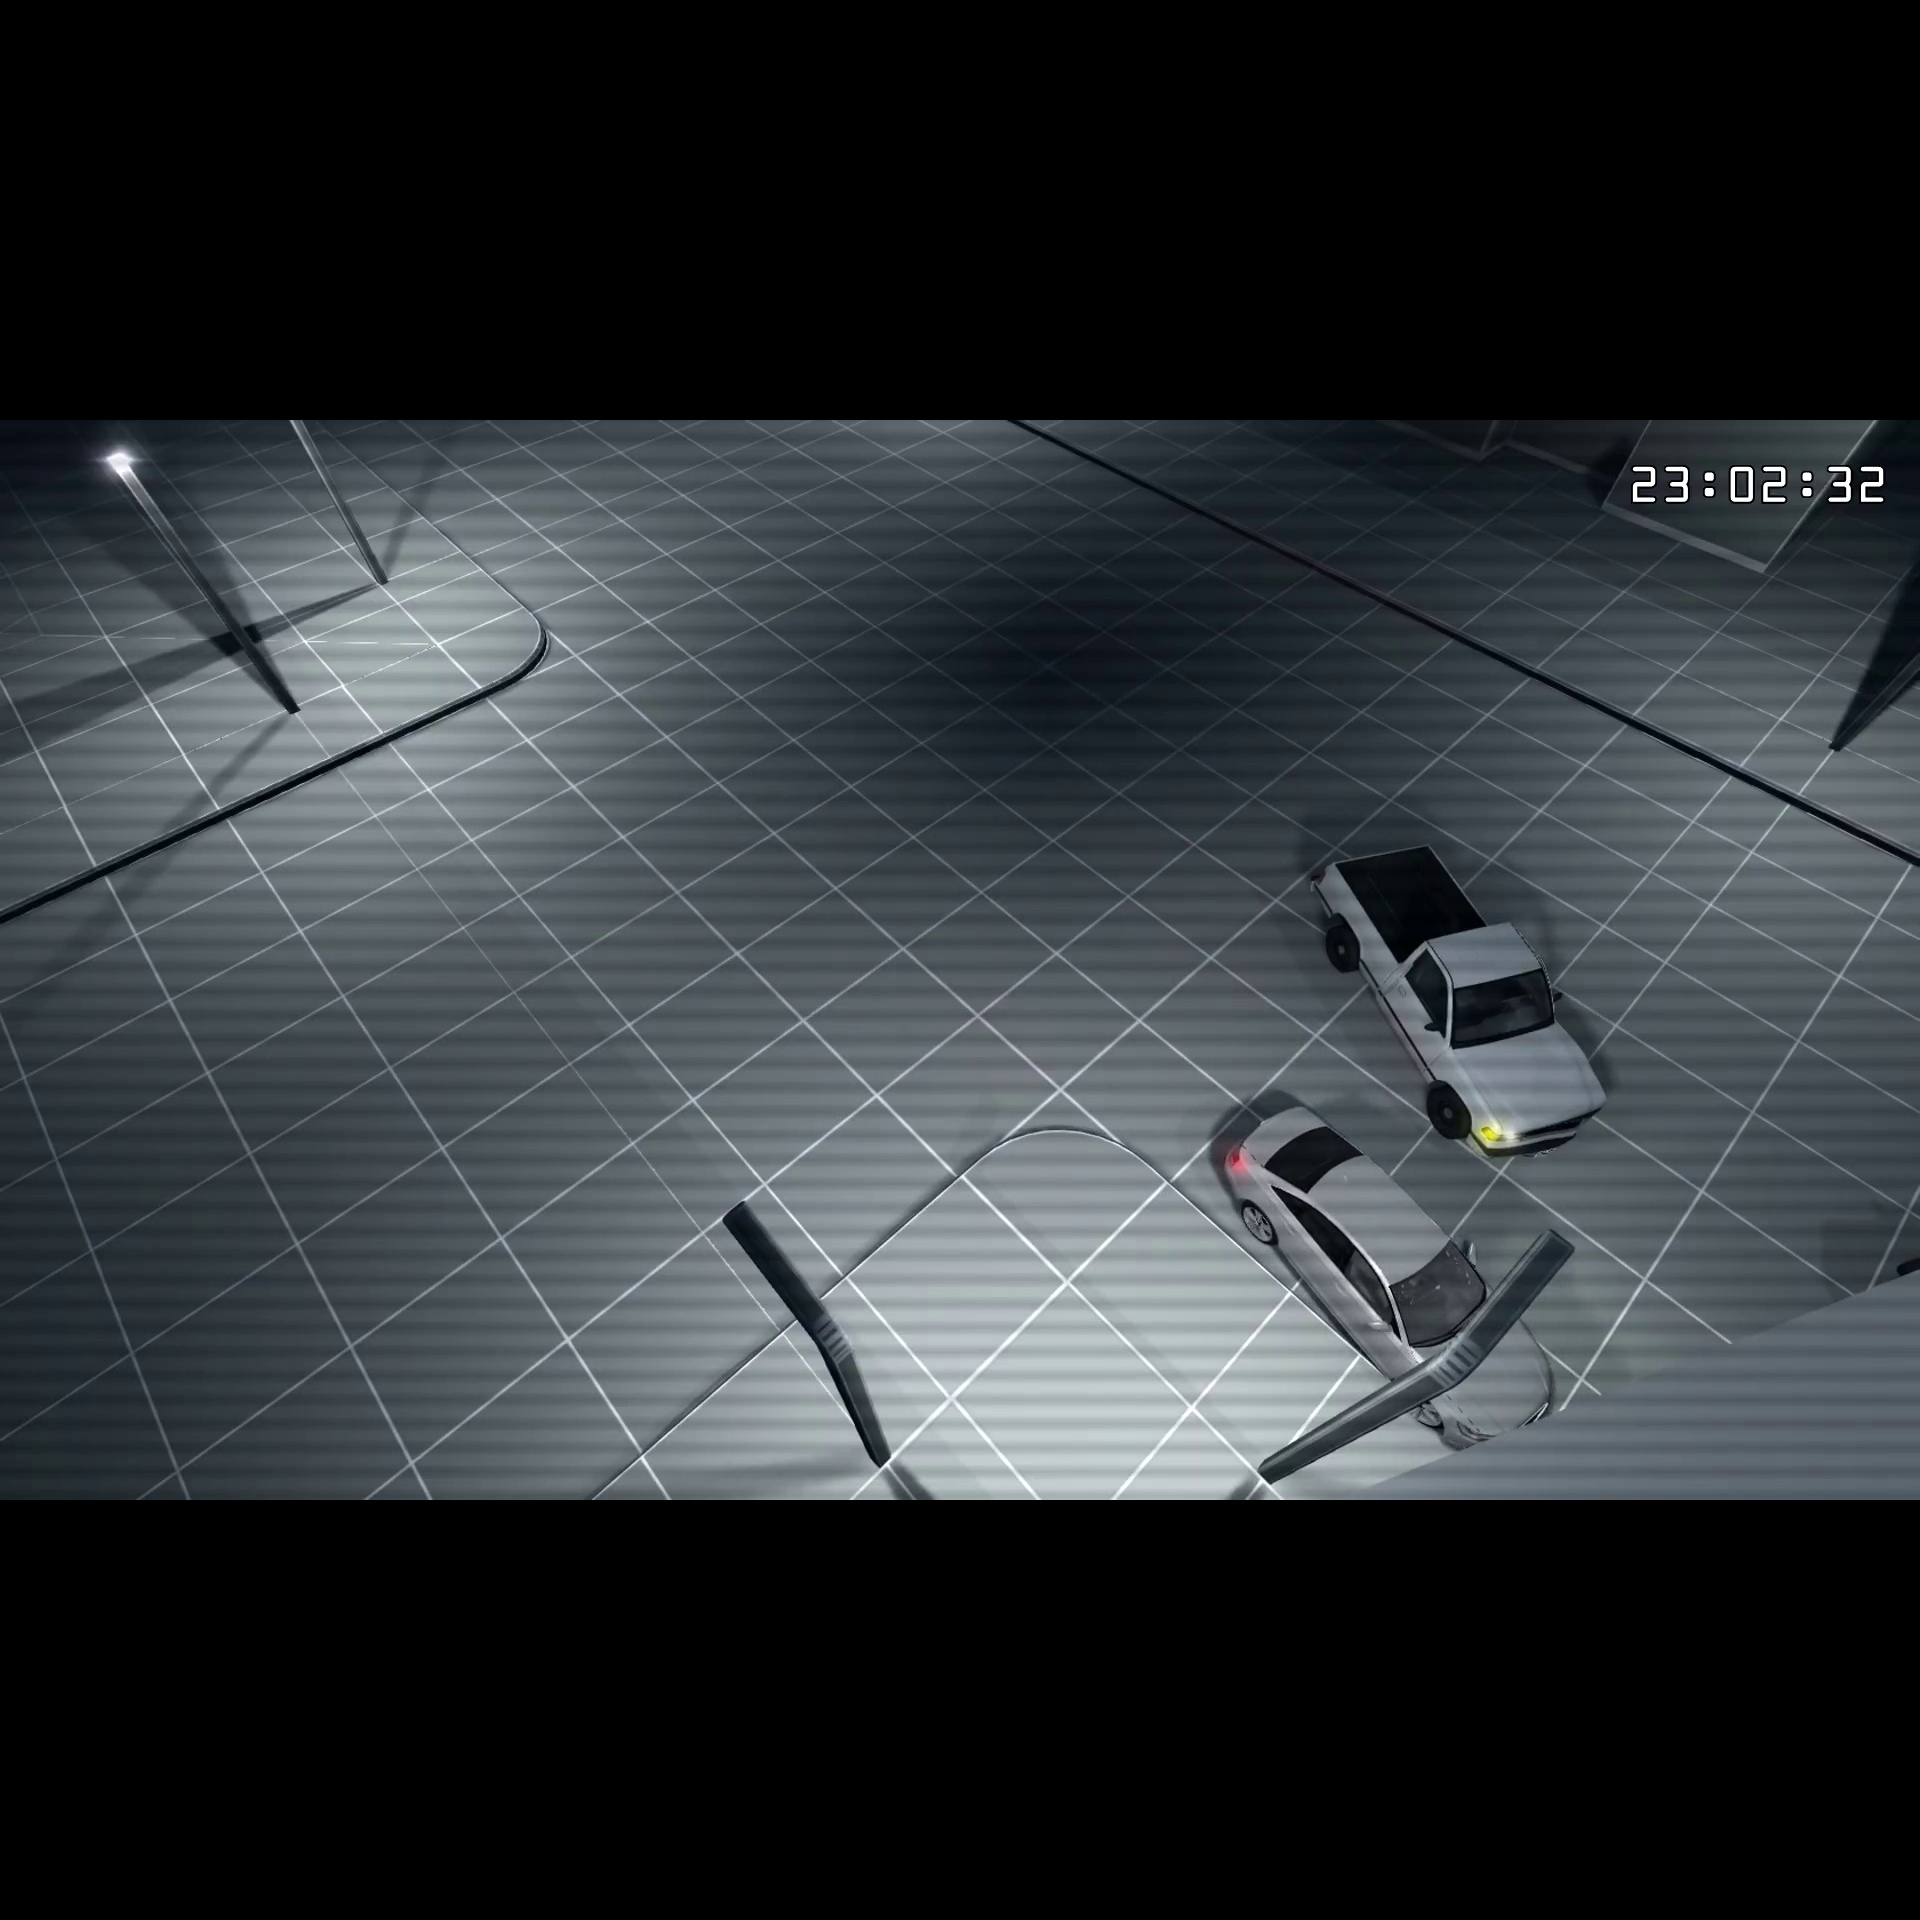vehicle: (1217, 1099, 1567, 1458), (1299, 823, 1616, 1169)
